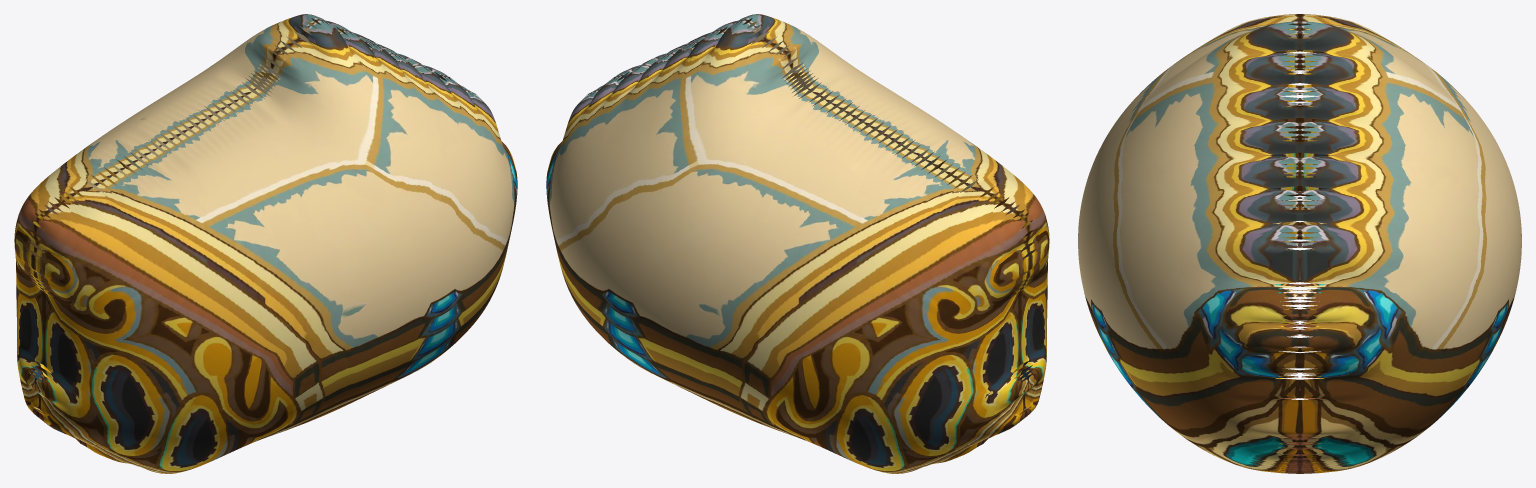
The model's file is portal_terrace.glb.
3 views of the same model, side by side, from view 1: azimuth 30°, elevation 25°; view 2: azimuth 150°, elevation 25°; view 3: azimuth 270°, elevation 25° (orthographic). The views are drawn at different scales.
Visible parts, largest first — view 1: portal_terrace; view 2: portal_terrace; view 3: portal_terrace.
Part boxes in pixels (<box>): portal_terrace: <box>14,14,517,473</box>; portal_terrace: <box>546,14,1049,473</box>; portal_terrace: <box>1078,14,1521,473</box>.
Bounding box in the file's own units: 0.989 × 0.8165 × 0.6902.
1 material, 1 textured.
